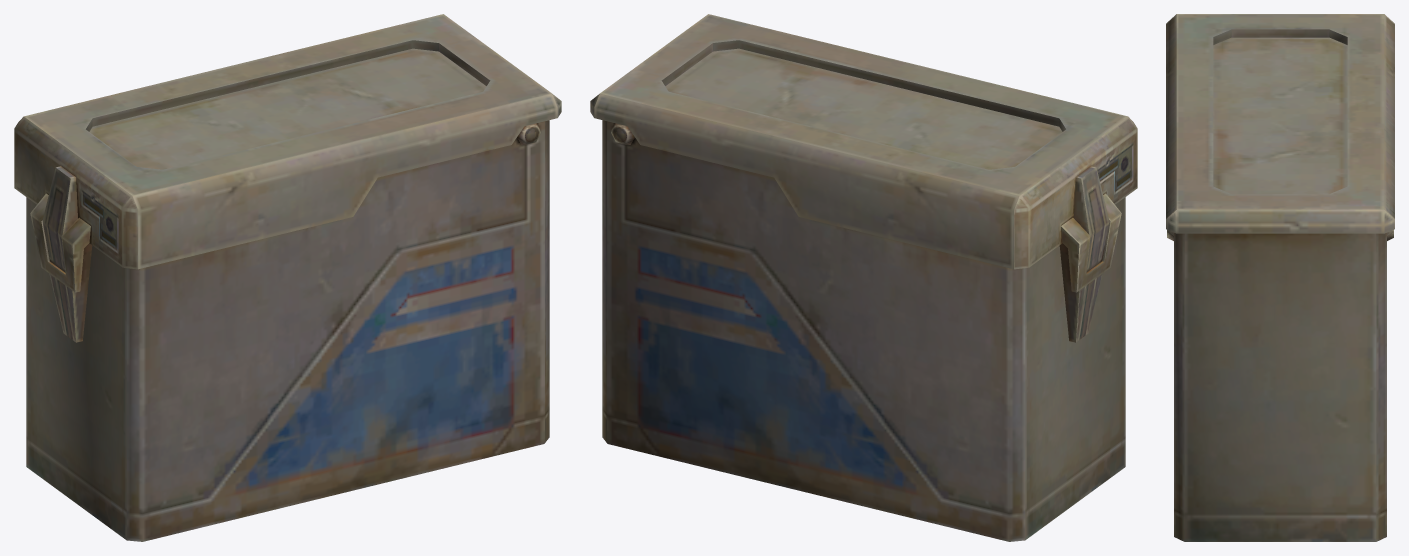
Rendered from all_item_rep_ammo_box.glb.
The picture shows the model from 3 angles, left to right: view 1: azimuth 30°, elevation 25°; view 2: azimuth 150°, elevation 25°; view 3: azimuth 270°, elevation 25°; orthographic projection. The views are drawn at different scales.
Parts seen in each view (by area): view 1: all_item_rep_ammo_box01; view 2: all_item_rep_ammo_box01; view 3: all_item_rep_ammo_box01.
Part boxes in pixels (left/top/right/bottom): all_item_rep_ammo_box01: left=14, top=14, right=561, bottom=541; all_item_rep_ammo_box01: left=590, top=14, right=1137, bottom=541; all_item_rep_ammo_box01: left=1166, top=14, right=1394, bottom=541.
Size of the model in its own units: 0.11 by 0.08 by 0.05.
Materials: 1 (1 with a texture image).
